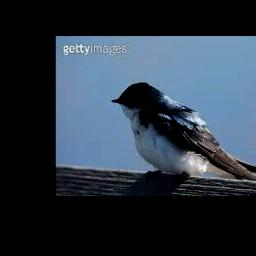Swallow: (111, 82, 256, 182)
